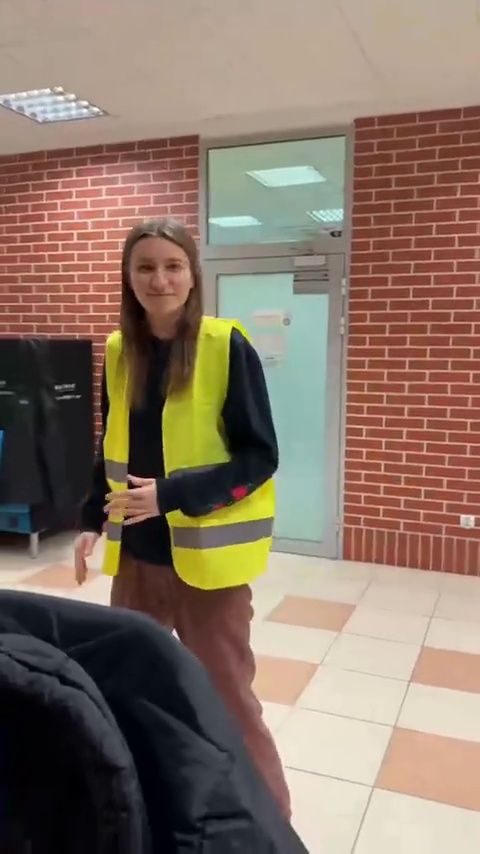vest: (96, 226, 289, 722)
